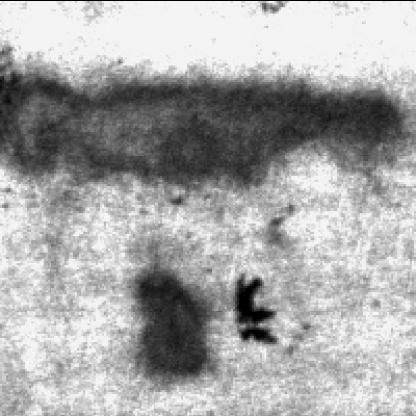patches: (4, 77, 408, 191), (138, 272, 208, 384)
